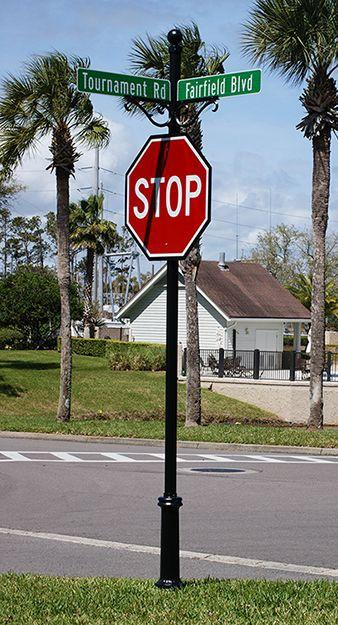Pole: (160, 255, 182, 583)
Sign: (129, 138, 206, 254)
